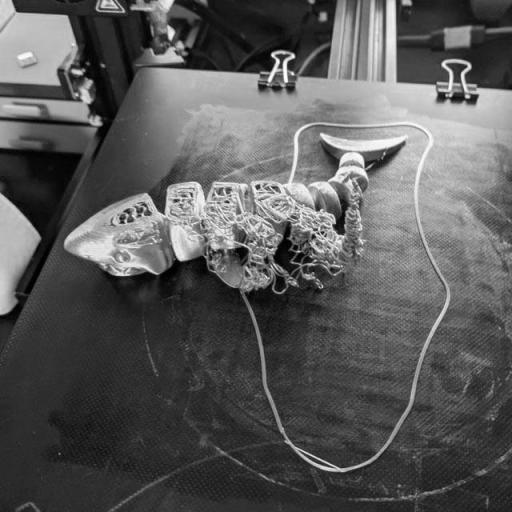spaghetti_and_stringing: (166, 192, 369, 294)
